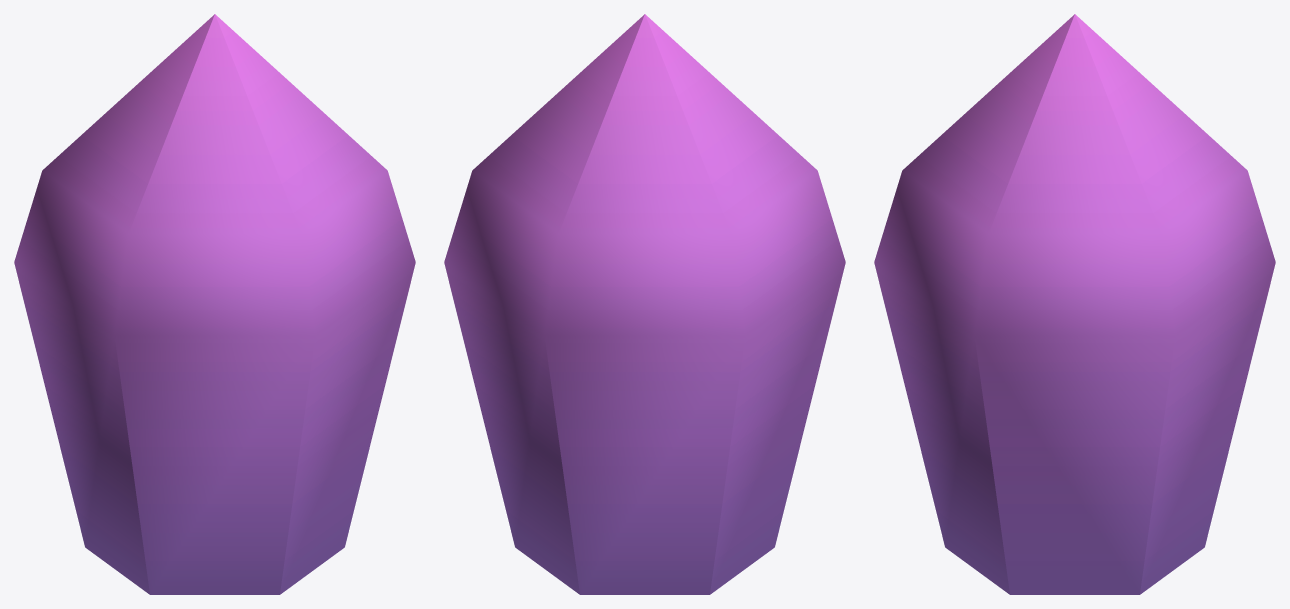
The model's file is p-tower-detail-crystal.glb.
3 renders of one model, left to right at view 1: azimuth 30°, elevation 25°; view 2: azimuth 150°, elevation 25°; view 3: azimuth 270°, elevation 25°, orthographic.
Visible parts, largest first — view 1: detail-crystal; view 2: detail-crystal; view 3: detail-crystal.
Boxes of the visible parts, x1,y1,x2,y2 form: detail-crystal: [14, 14, 415, 594]; detail-crystal: [444, 14, 845, 594]; detail-crystal: [874, 14, 1275, 594].
Bounding box in the file's own units: 0.2512 × 0.425 × 0.29.
Materials: 1 (1 with a texture image).
